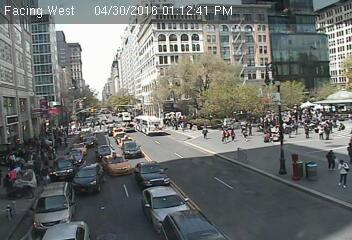neg: (281, 154, 301, 180), (300, 160, 315, 181), (229, 146, 244, 166), (175, 134, 190, 154), (271, 141, 286, 160), (114, 183, 128, 200), (67, 149, 80, 166), (242, 33, 254, 49), (103, 148, 114, 162), (113, 132, 124, 146), (255, 30, 266, 44), (195, 76, 205, 90), (148, 118, 157, 130), (182, 41, 190, 52), (84, 133, 91, 144)
pos: (332, 159, 351, 188), (37, 166, 54, 188), (325, 149, 341, 170), (323, 122, 336, 140), (302, 123, 313, 139), (201, 126, 211, 140), (230, 129, 239, 142)
